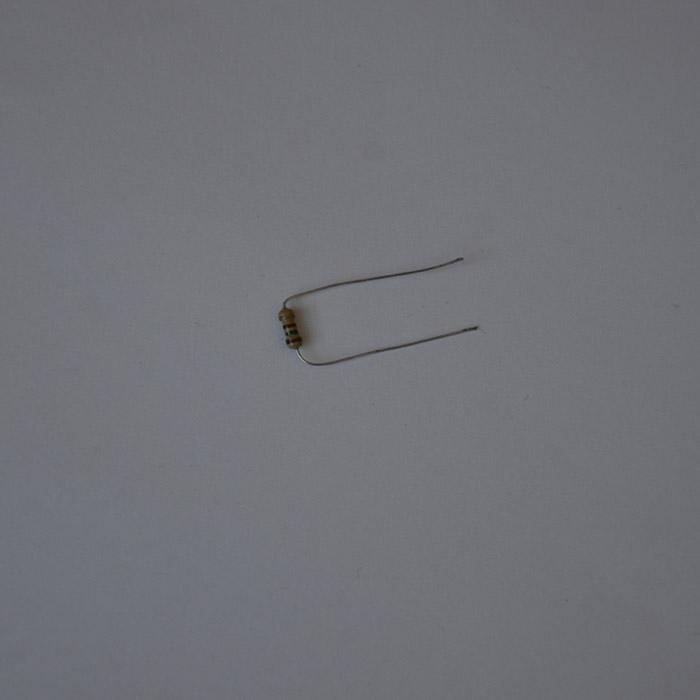resistor: (277, 306, 301, 349)
